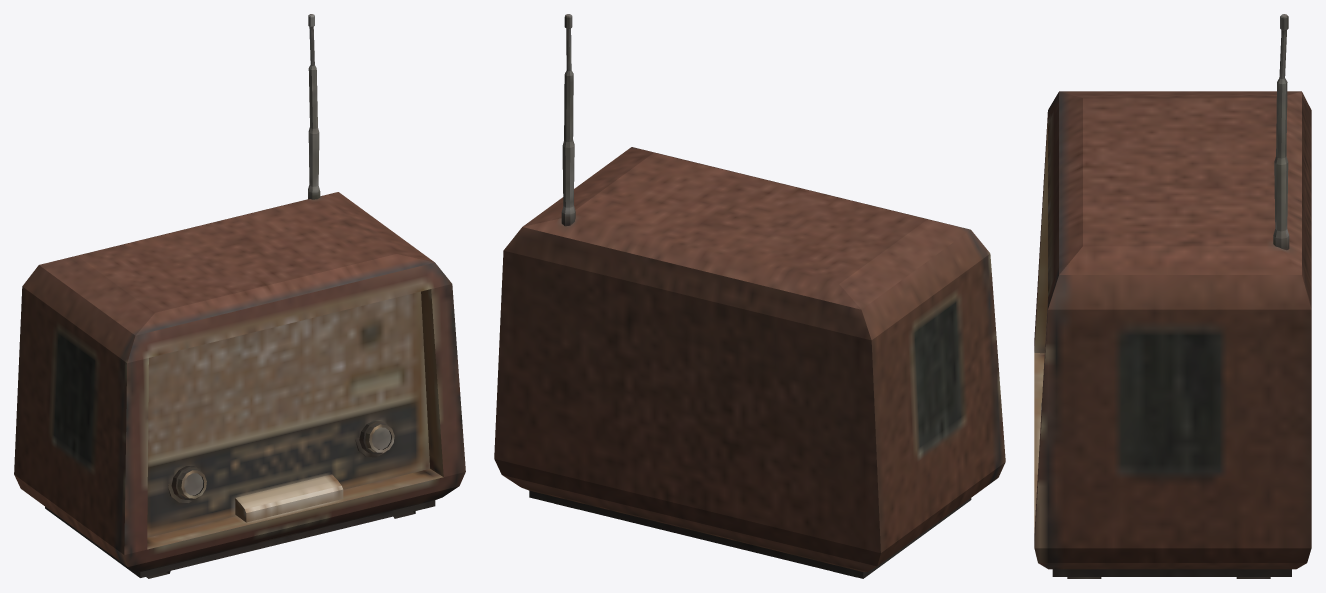
The model's file is Radio.fbx.
The picture shows the model from 3 angles, left to right: view 1: azimuth 30°, elevation 25°; view 2: azimuth 150°, elevation 25°; view 3: azimuth 270°, elevation 25°; orthographic projection. The views are drawn at different scales.
Parts seen in each view (by area): view 1: Radio_Low; view 2: Radio_Low; view 3: Radio_Low.
Part boxes in pixels (x1,y1,x2,y2): Radio_Low: (14,14,465,578); Radio_Low: (494,14,1005,578); Radio_Low: (1034,14,1311,578).
Size of the model in its own units: 0.2318 by 0.2854 by 0.1296.
